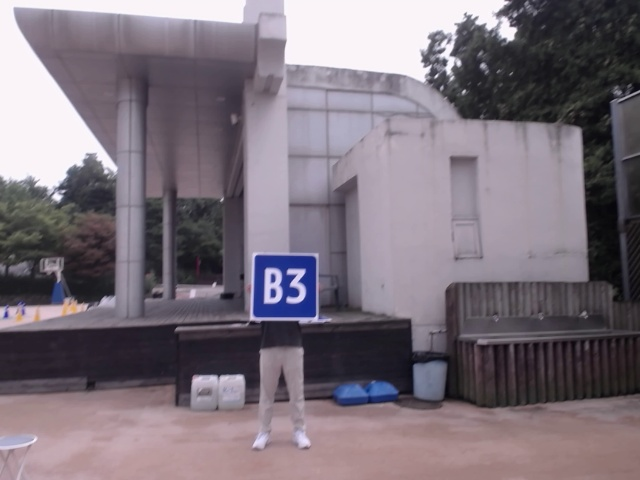delivery_b3: (253, 251, 318, 320)
